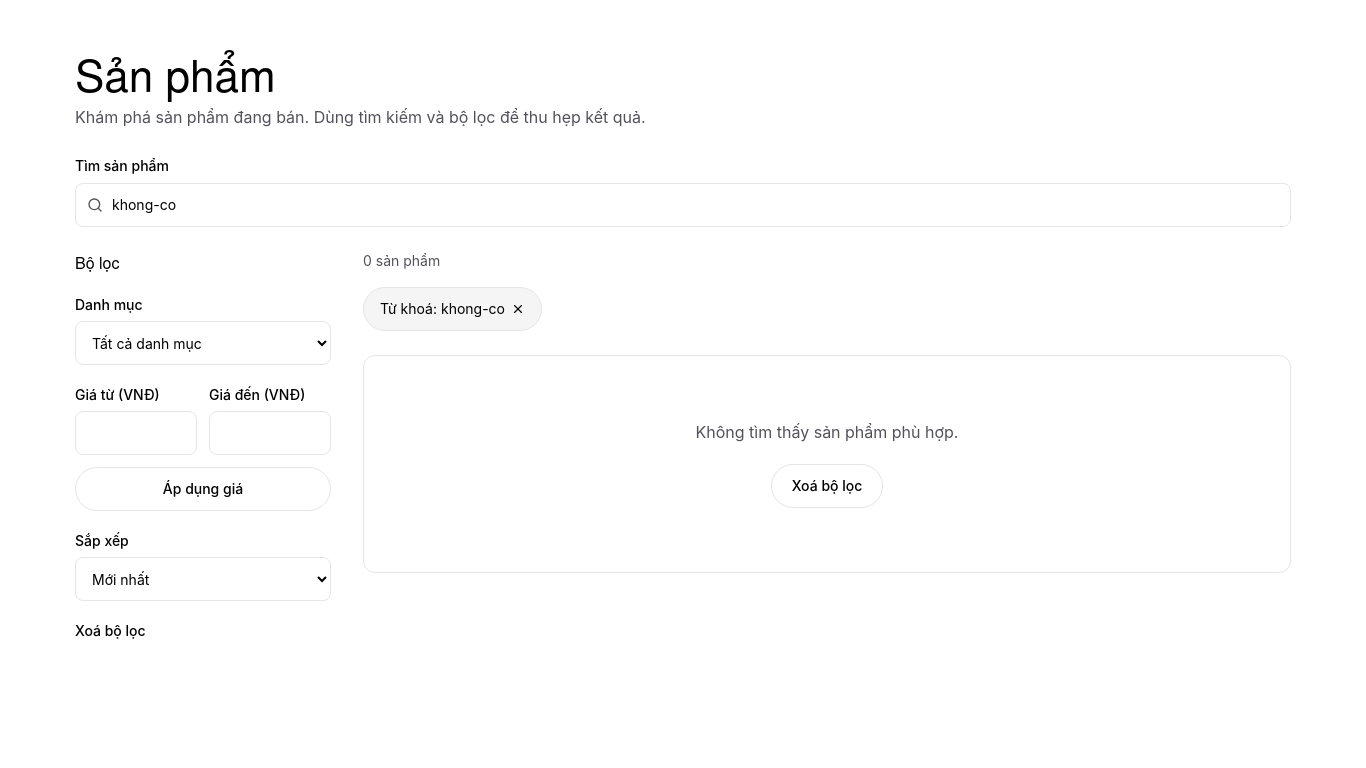
Test: ProductListPage › shows a no-result state whose clear action resets the filters
The width and height of the screenshot is (1366, 768).
Click the button "Xoá bộ lọc" below "Không tìm thấy sản phẩm phù hợp." at (827, 486), box [771, 464, 883, 508]
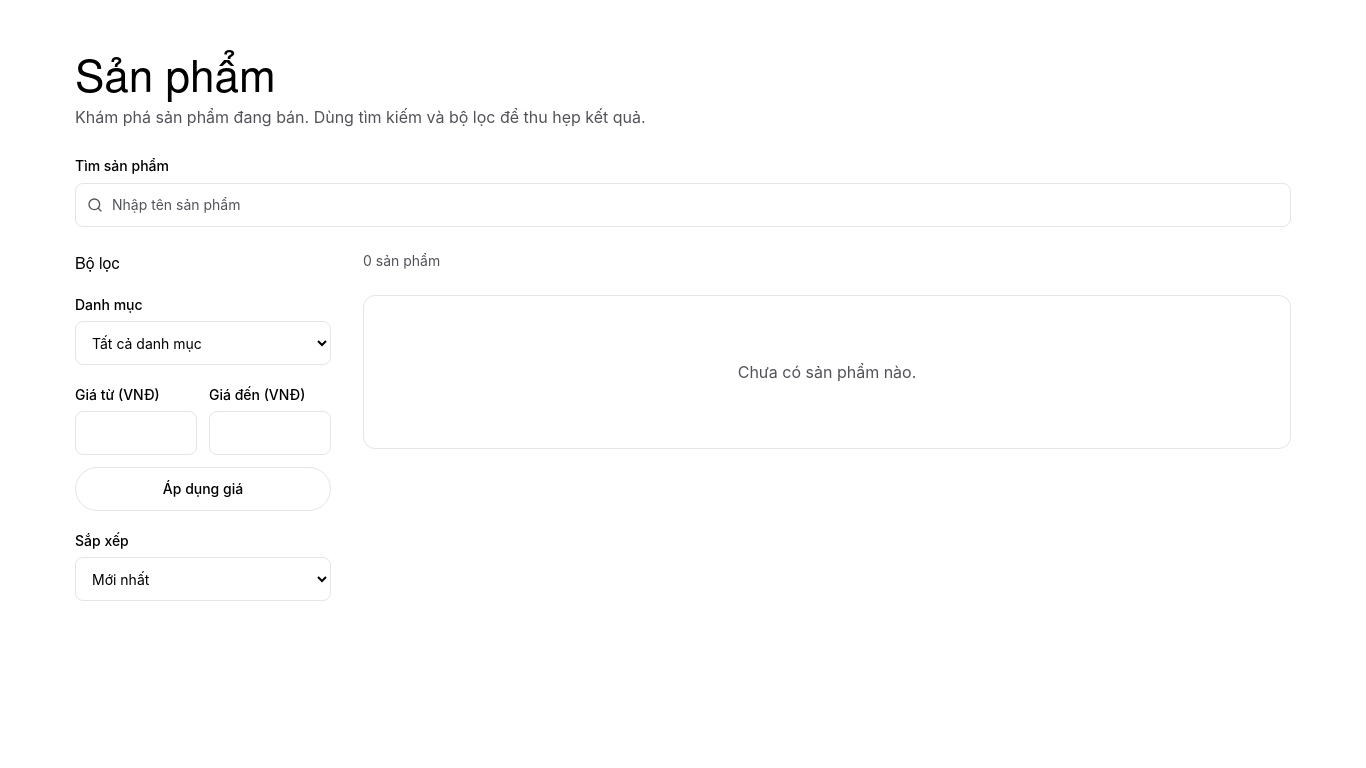
Result: the text "Chưa có sản phẩm nào." is shown at [738, 362, 916, 382]
